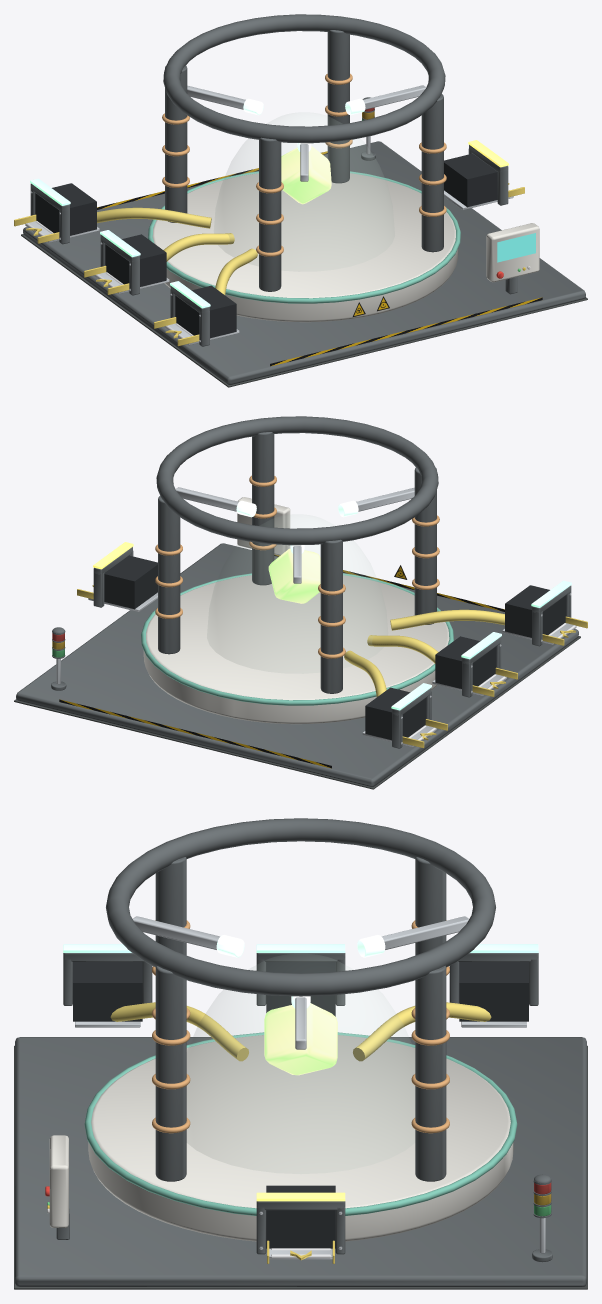
Rendered from fusionador.glb.
The picture shows the model from 3 angles, top to bottom: view 1: azimuth 30°, elevation 25°; view 2: azimuth 150°, elevation 25°; view 3: azimuth 270°, elevation 25°; orthographic projection. The views are drawn at different scales.
Visible parts, largest first — view 1: plataforma, zocalo, cupula, anillo_alto, pilar2, pilar3, pilar0, plataforma_franja, pilar1, boca_salida_hueco, nucleo_vivo, boca_entrada0_hueco (+11 smaller); view 2: plataforma, zocalo, cupula, anillo_alto, pilar1, pilar0, pilar3, plataforma_franja, pilar2, boca_salida_hueco, nucleo_vivo, boca_entrada1_hueco (+10 smaller); view 3: zocalo, plataforma, cupula, anillo_alto, pilar0, pilar3, plataforma_franja, nucleo_vivo, boca_entrada0_hueco, boca_entrada2_hueco, boca_salida_hueco, pilar1 (+15 smaller).
Boxes of the visible parts, x1=… form: plataforma: x1=152, y1=173, x2=458, y2=322; zocalo: x1=23, y1=141, x2=585, y2=384; cupula: x1=214, y1=113, x2=394, y2=271; anillo_alto: x1=163, y1=14, x2=445, y2=143; pilar2: x1=259, y1=137, x2=281, y2=291; pilar3: x1=421, y1=94, x2=443, y2=252; pilar0: x1=327, y1=30, x2=349, y2=183; plataforma_franja: x1=148, y1=171, x2=460, y2=303; pilar1: x1=165, y1=65, x2=187, y2=222; boca_salida_hueco: x1=444, y1=153, x2=497, y2=207; nucleo_vivo: x1=281, y1=146, x2=331, y2=204; boca_entrada0_hueco: x1=35, y1=183, x2=96, y2=235; plataforma: x1=143, y1=575, x2=449, y2=724; zocalo: x1=16, y1=543, x2=578, y2=786; cupula: x1=207, y1=515, x2=387, y2=673; anillo_alto: x1=156, y1=416, x2=438, y2=545; pilar1: x1=320, y1=539, x2=342, y2=693; pilar0: x1=158, y1=496, x2=180, y2=654; pilar3: x1=252, y1=432, x2=274, y2=585; plataforma_franja: x1=141, y1=573, x2=453, y2=705; pilar2: x1=414, y1=467, x2=436, y2=624; boca_salida_hueco: x1=104, y1=555, x2=157, y2=609; nucleo_vivo: x1=268, y1=548, x2=320, y2=603; boca_entrada1_hueco: x1=435, y1=636, x2=496, y2=688; zocalo: x1=15, y1=1037, x2=586, y2=1286; plataforma: x1=88, y1=1035, x2=513, y2=1241; cupula: x1=187, y1=954, x2=414, y2=1173; anillo_alto: x1=106, y1=818, x2=495, y2=996; pilar0: x1=415, y1=965, x2=446, y2=1181; pilar3: x1=155, y1=965, x2=186, y2=1181; plataforma_franja: x1=84, y1=1032, x2=517, y2=1215; nucleo_vivo: x1=264, y1=1003, x2=337, y2=1075; boca_entrada0_hueco: x1=459, y1=962, x2=528, y2=1021; boca_entrada2_hueco: x1=73, y1=962, x2=142, y2=1021; boca_salida_hueco: x1=266, y1=1185, x2=335, y2=1248; pilar1: x1=415, y1=857, x2=446, y2=955.
Bounding box in the file's own units: 3.44 × 1.59 × 2.97.
Materials: 27 (3 with a texture image).
